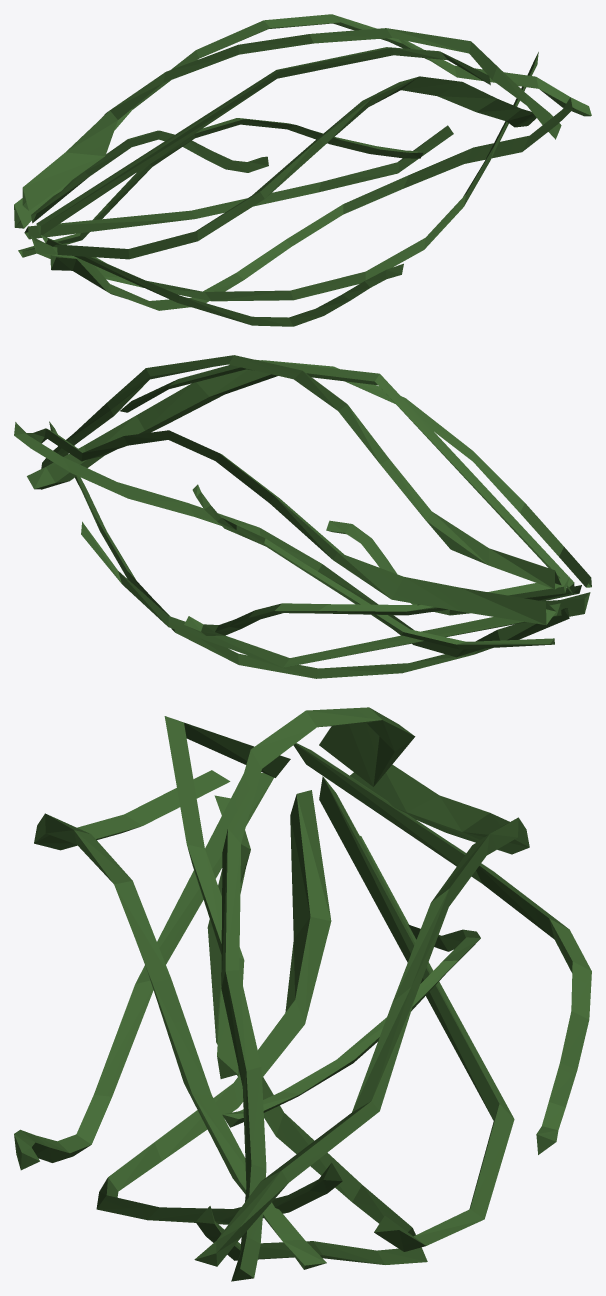
File: 04 Green_Grass.FBX
The picture shows the model from 3 angles, top to bottom: view 1: azimuth 30°, elevation 25°; view 2: azimuth 150°, elevation 25°; view 3: azimuth 270°, elevation 25°; orthographic projection. The views are drawn at different scales.
Visible parts, largest first — view 1: Desert_plant_021; view 2: Desert_plant_021; view 3: Desert_plant_021.
Part boxes in pixels (x1,y1,x2,y2): Desert_plant_021: (14,14,591,326); Desert_plant_021: (14,355,591,678); Desert_plant_021: (14,707,591,1281).
Bounding box in the file's own units: 1126 × 521 × 553.
